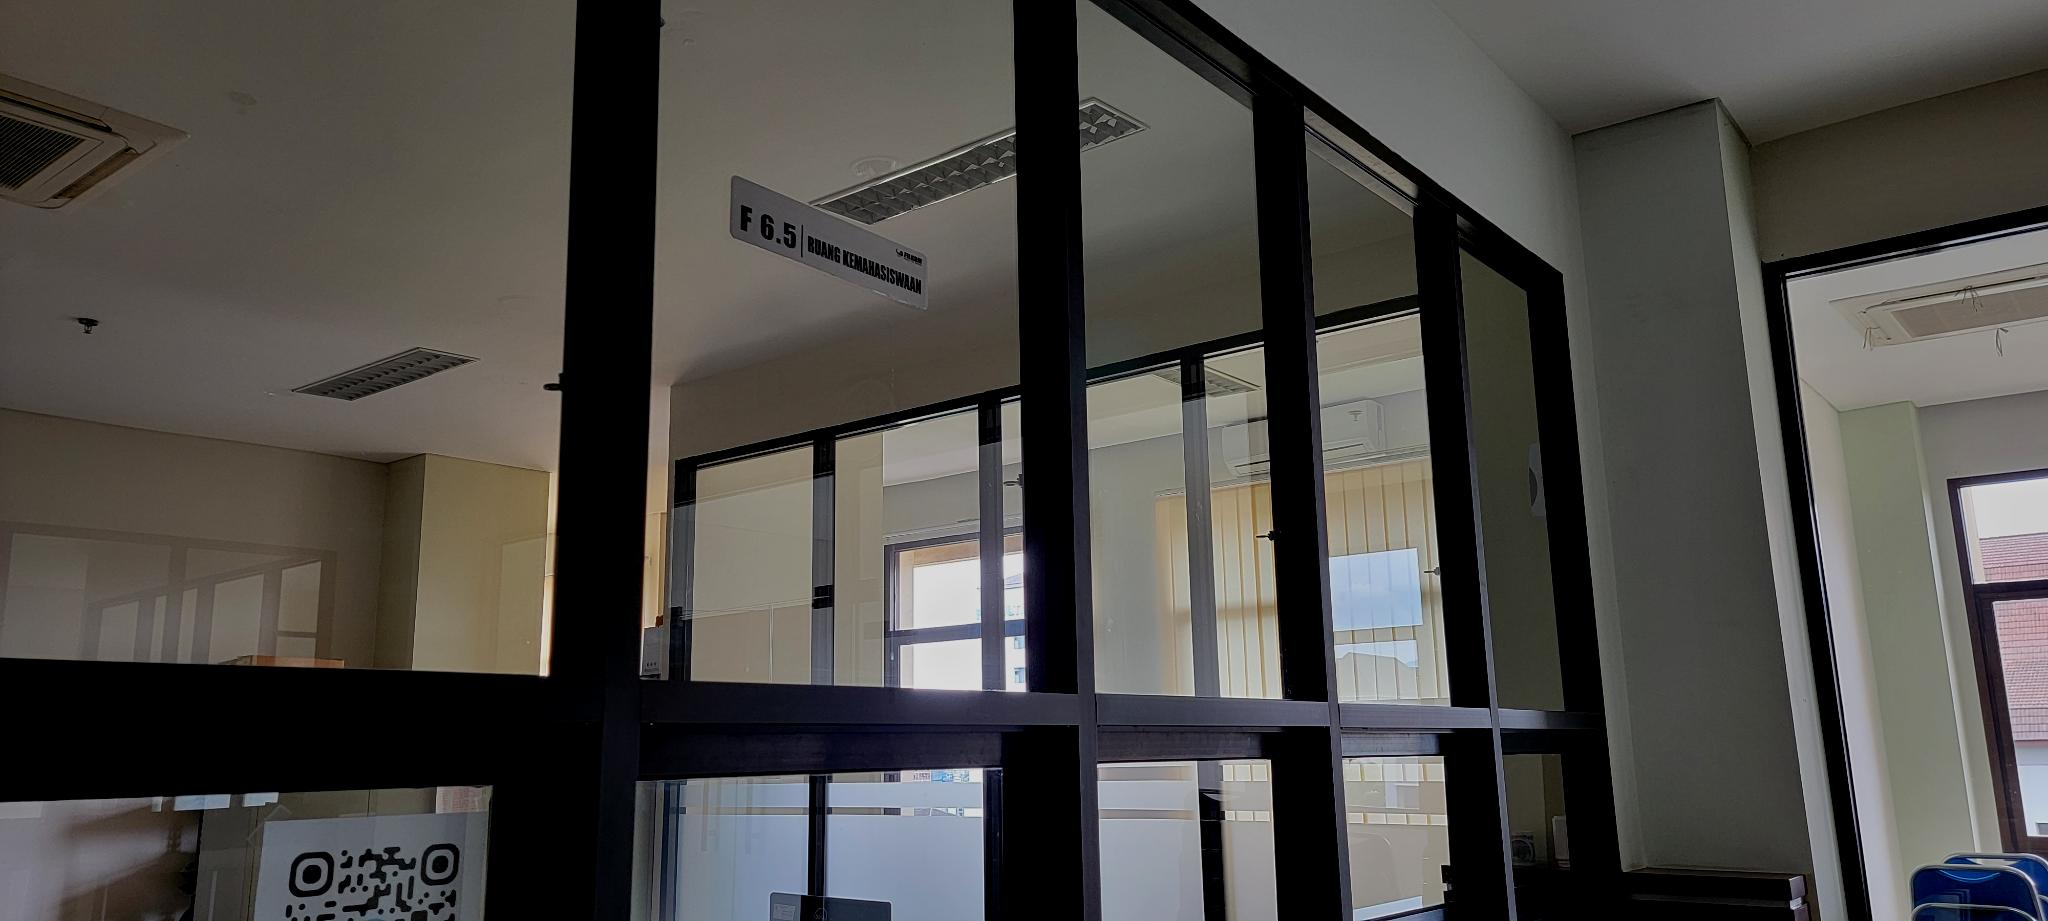plate: (730, 174, 927, 311)
